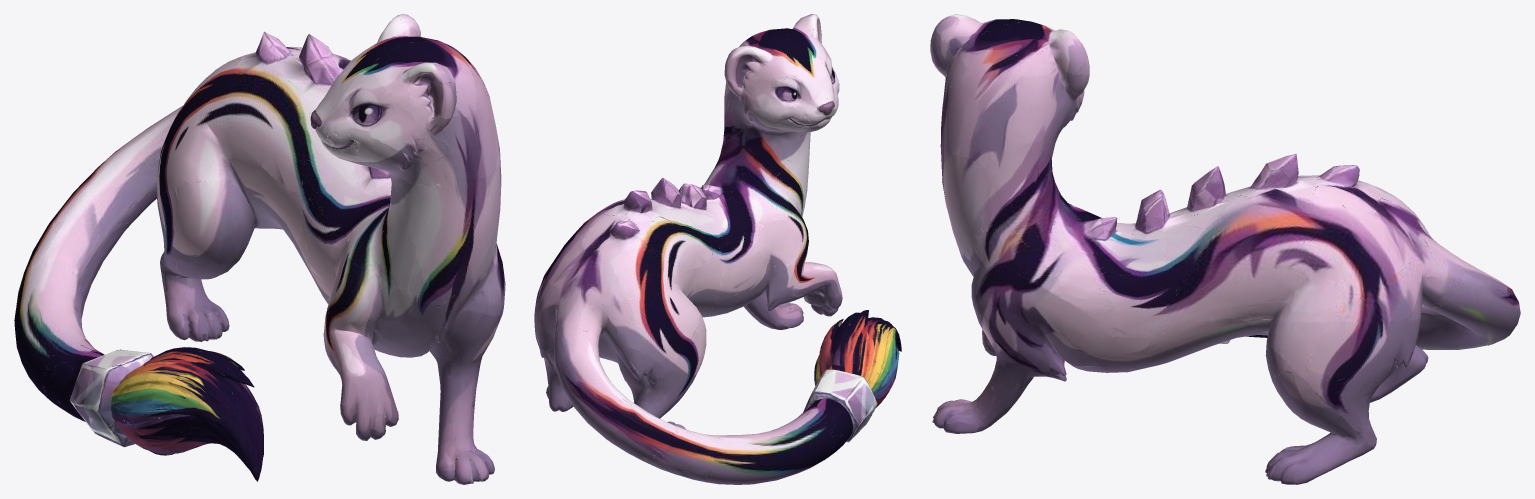
The picture shows the model from 3 angles, left to right: view 1: azimuth 30°, elevation 25°; view 2: azimuth 150°, elevation 25°; view 3: azimuth 270°, elevation 25°; orthographic projection. The views are drawn at different scales.
Parts seen in each view (by area): view 1: yaw_fix; view 2: yaw_fix; view 3: yaw_fix.
Part boxes in pixels (<box>): yaw_fix: <box>14,14,505,484</box>; yaw_fix: <box>534,14,901,484</box>; yaw_fix: <box>930,14,1520,484</box>.
Size of the model in its own units: 1.34 by 1.43 by 1.9.
1 material, 1 textured.
